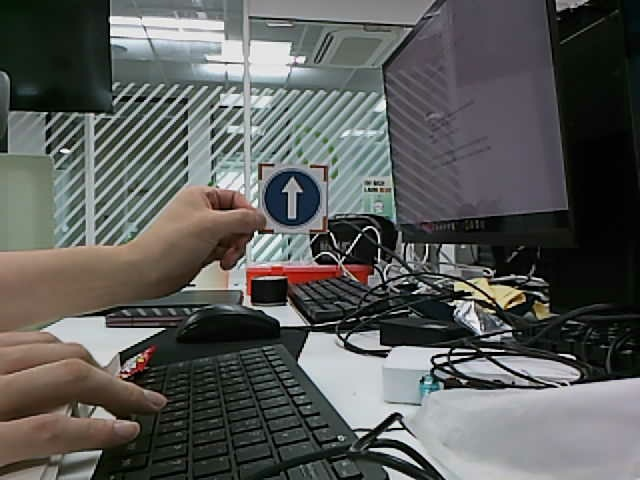go: (264, 169, 321, 228)
